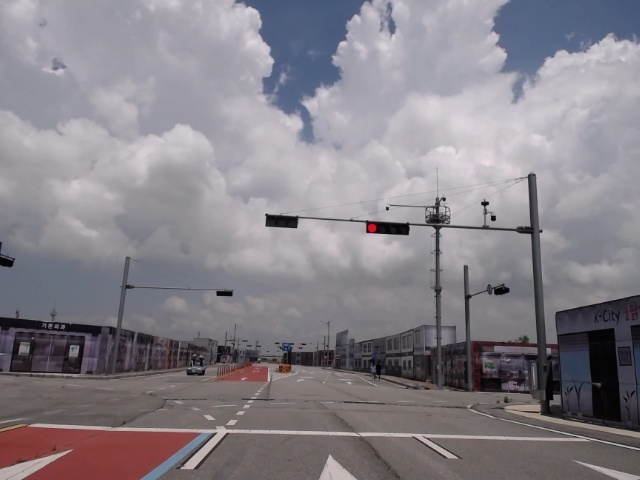red_4: (366, 223, 409, 235)
